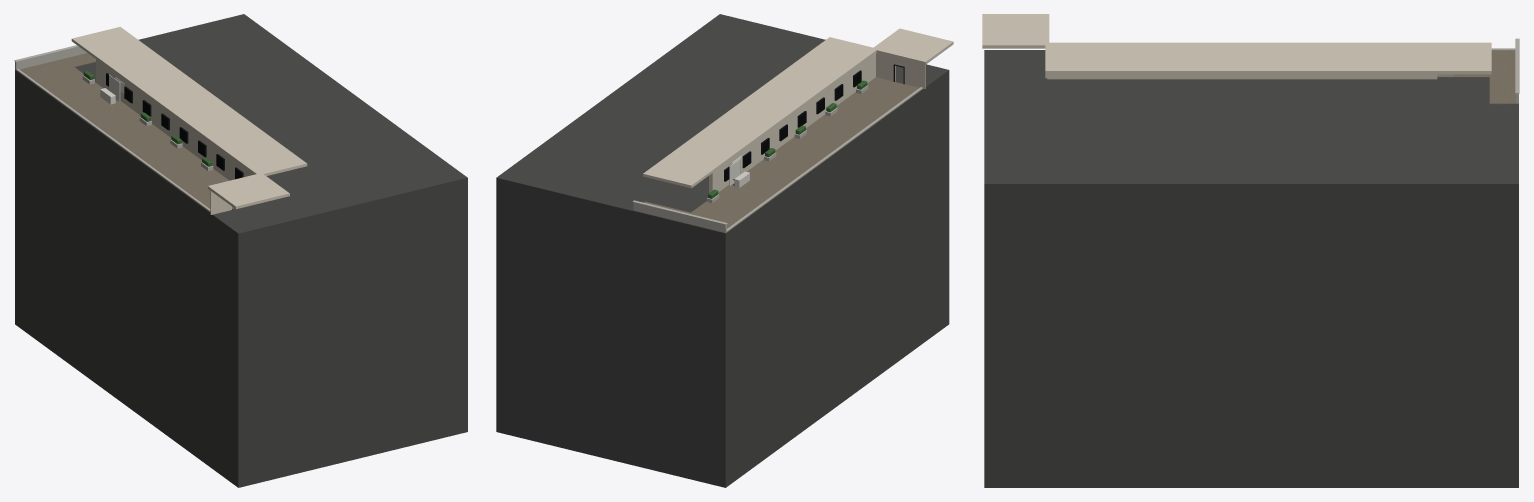
File: set8.glb
3 views of the same model, side by side, from view 1: azimuth 30°, elevation 25°; view 2: azimuth 150°, elevation 25°; view 3: azimuth 270°, elevation 25° (orthographic). The views are drawn at different scales.
Visible parts, largest first — view 1: Static; view 2: Static; view 3: Static.
Boxes of the visible parts, bbox=[...] form: Static: bbox=[14, 14, 467, 487]; Static: bbox=[496, 14, 953, 487]; Static: bbox=[982, 14, 1519, 487].
Size of the model in its own units: 30.65 by 35.6 by 51.26.
Materials: 9 (1 with a texture image).
